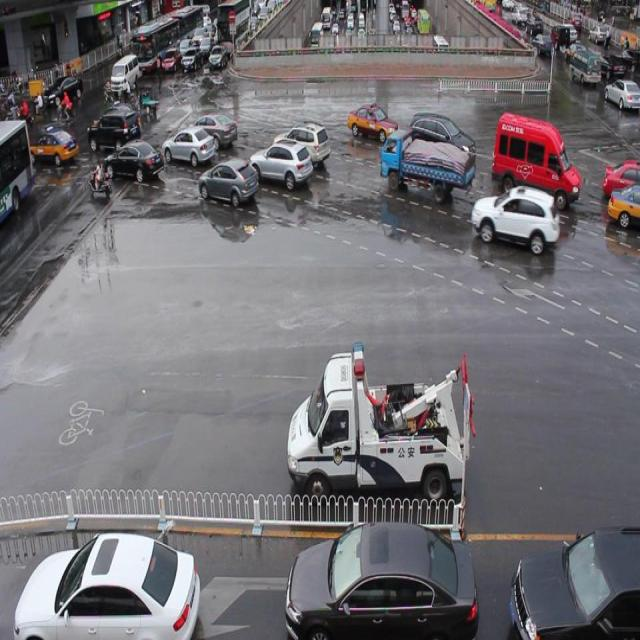bus: (288, 335, 476, 505), (379, 131, 468, 201)
car: (284, 520, 477, 640), (14, 528, 198, 640), (510, 525, 640, 640), (471, 186, 557, 253), (408, 108, 474, 160), (250, 138, 313, 190), (198, 155, 258, 209), (103, 140, 164, 182), (272, 122, 328, 166), (186, 112, 239, 150), (163, 129, 216, 164), (348, 100, 398, 136), (603, 154, 640, 197), (608, 180, 640, 227)
truck: (492, 107, 580, 202)
